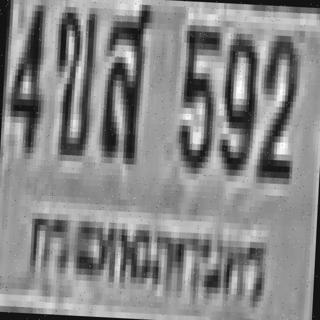A02: (50, 0, 96, 156)
A40: (98, 0, 150, 159)
N02: (254, 29, 297, 179)
N04: (6, 0, 44, 148)
N05: (175, 19, 221, 169)
N09: (217, 27, 257, 171)
P04: (16, 198, 272, 318)
